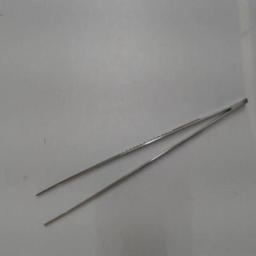DeBakey Dissector: (28, 76, 254, 238)
